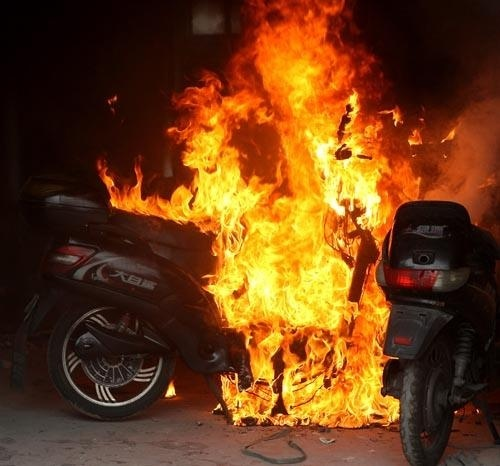fire: (104, 21, 463, 417), (163, 380, 177, 398)
